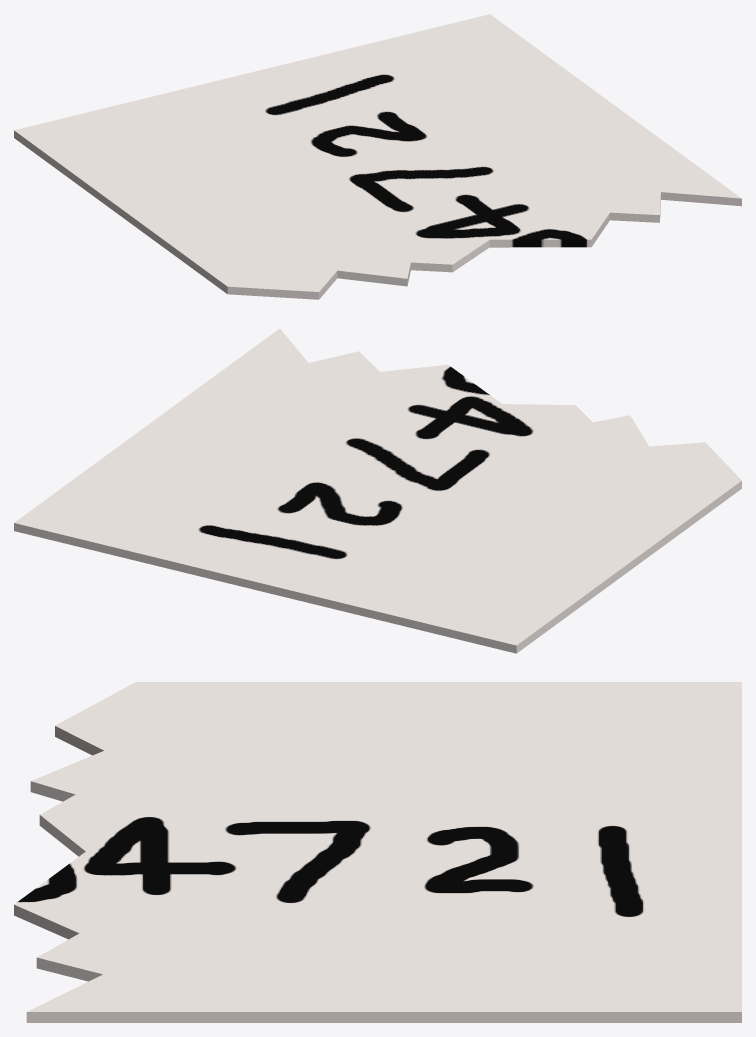
The model's file is paper.fbx.
The picture shows the model from 3 angles, top to bottom: view 1: azimuth 30°, elevation 25°; view 2: azimuth 150°, elevation 25°; view 3: azimuth 270°, elevation 25°; orthographic projection. The views are drawn at different scales.
Visible parts, largest first — view 1: Plane.001; view 2: Plane.001; view 3: Plane.001.
Boxes of the visible parts, <box> form: Plane.001: <box>14,14,741,299</box>; Plane.001: <box>14,328,741,653</box>; Plane.001: <box>14,682,741,1022</box>.
Bounding box in the file's own units: 200 × 3.09 × 187.
